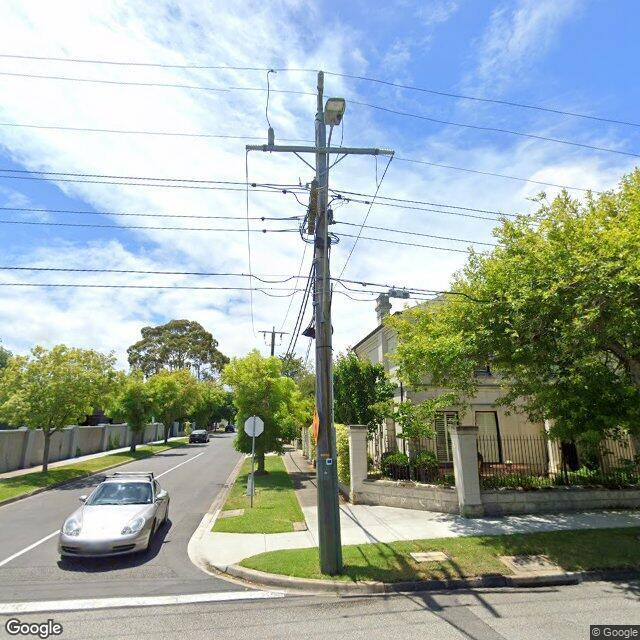HV-transmission: (245, 70, 395, 158), (258, 325, 290, 340)
crossarm: (251, 180, 369, 235), (270, 145, 378, 157), (265, 332, 281, 334)
streetlight: (320, 98, 347, 322)
timber-pole: (315, 111, 344, 576), (271, 332, 275, 356)
